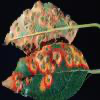Apple rust leaf: (2, 45, 96, 99), (4, 1, 83, 58)
